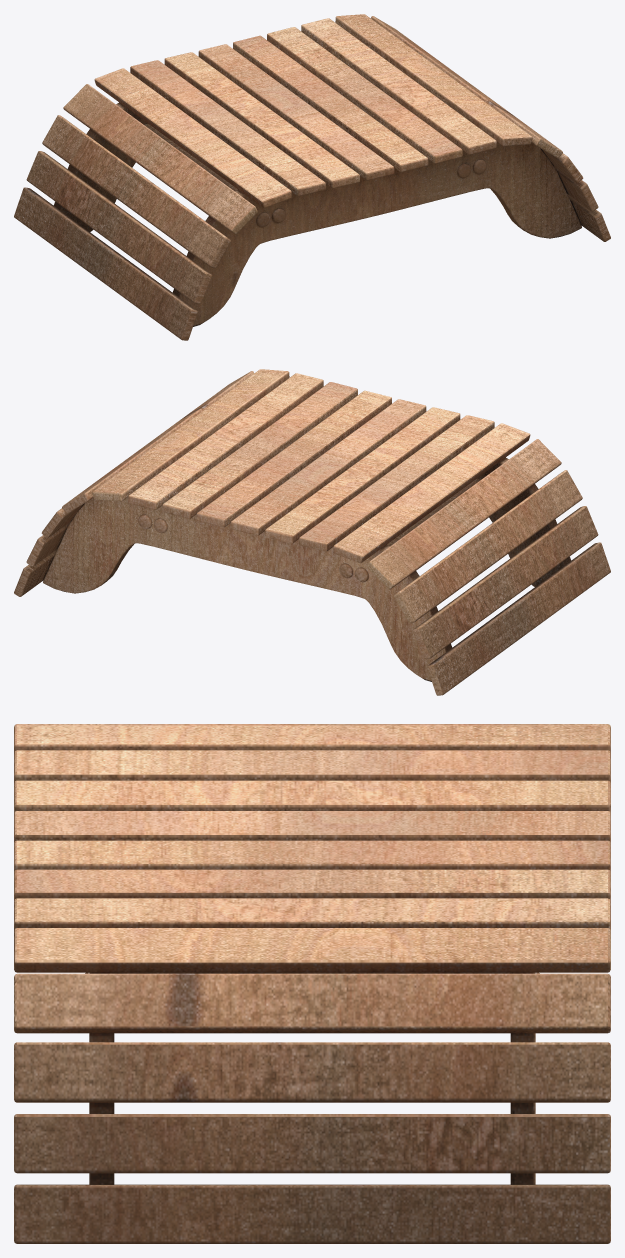
The model's file is baked.glb.
3 renders of one model, top to bottom at view 1: azimuth 30°, elevation 25°; view 2: azimuth 150°, elevation 25°; view 3: azimuth 270°, elevation 25°, orthographic. The views are drawn at different scales.
Parts seen in each view (by area): view 1: Plane.007; view 2: Plane.007; view 3: Plane.007.
Part boxes in pixels (x1=…): Plane.007: x1=14, y1=14, x2=610, y2=340; Plane.007: x1=14, y1=369, x2=610, y2=695; Plane.007: x1=14, y1=724, x2=610, y2=1243.
Size of what is drawn, in the model's own units: 2.18 by 0.6494 by 1.48.
1 material, 1 textured.
